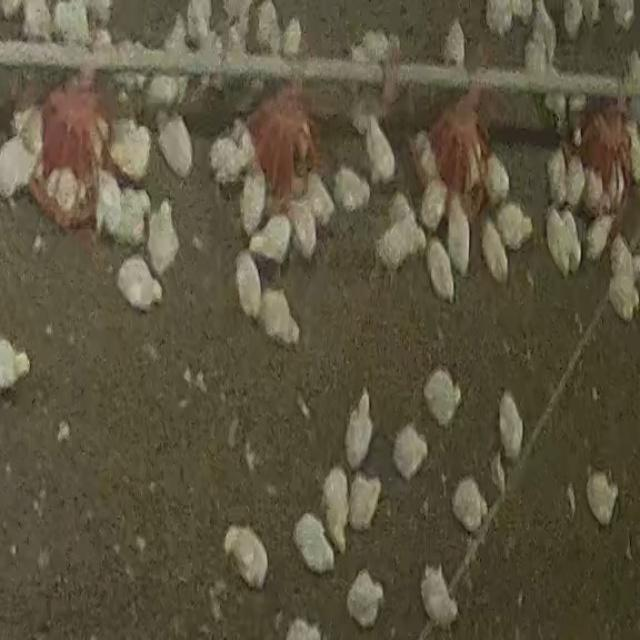chicken: (466, 376, 544, 468), (563, 439, 625, 533), (118, 252, 190, 332), (0, 126, 63, 217), (352, 103, 407, 198), (89, 128, 162, 198), (32, 10, 117, 70), (156, 115, 214, 193), (354, 478, 406, 556), (379, 186, 427, 268), (249, 288, 308, 354), (223, 525, 277, 597), (535, 208, 588, 278), (295, 525, 348, 590), (407, 363, 459, 429), (278, 182, 319, 264), (231, 252, 274, 324), (392, 420, 433, 492), (315, 476, 357, 546), (102, 190, 148, 253), (146, 213, 182, 291), (471, 208, 510, 280), (429, 24, 484, 75), (414, 573, 462, 630), (247, 216, 294, 274), (351, 571, 394, 633), (215, 122, 258, 180), (479, 135, 516, 202), (441, 193, 473, 264), (429, 238, 461, 308), (350, 393, 382, 463), (334, 170, 374, 223), (73, 2, 110, 59), (0, 329, 36, 385), (460, 486, 497, 537), (422, 180, 453, 239), (536, 9, 567, 67), (608, 233, 640, 289), (156, 17, 192, 66), (306, 169, 336, 227), (542, 157, 570, 218), (495, 438, 521, 502), (572, 162, 598, 223), (244, 166, 268, 232), (501, 195, 528, 252), (612, 276, 640, 330), (609, 0, 640, 43), (184, 0, 209, 45), (255, 3, 282, 43), (593, 174, 620, 212), (559, 0, 588, 35), (529, 38, 555, 77), (419, 151, 444, 191), (229, 0, 255, 38), (480, 11, 509, 44), (286, 13, 306, 60), (586, 221, 610, 257), (276, 626, 334, 640), (606, 1, 620, 52), (520, 0, 537, 34), (413, 131, 424, 167)
